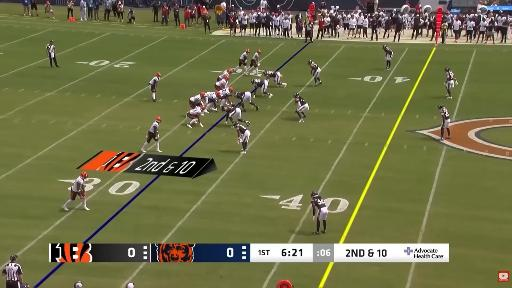Helmet: (80, 172, 87, 179), (311, 191, 318, 197), (220, 104, 226, 111), (200, 91, 205, 98), (232, 122, 239, 127), (293, 93, 300, 98), (438, 104, 444, 109), (263, 70, 268, 75), (156, 117, 161, 122), (215, 91, 220, 96), (227, 69, 232, 74), (200, 105, 205, 110), (224, 75, 229, 80), (445, 67, 450, 72), (229, 87, 233, 92), (156, 72, 160, 77), (251, 79, 255, 84), (308, 60, 312, 64), (257, 49, 261, 53), (235, 92, 238, 97), (383, 45, 386, 49), (246, 49, 249, 53)
Jersey: (311, 196, 326, 210), (72, 177, 83, 192), (149, 121, 159, 134), (440, 108, 450, 121), (188, 107, 202, 116), (190, 94, 202, 104), (206, 92, 217, 102), (216, 79, 227, 89), (296, 96, 307, 106), (229, 108, 241, 117), (220, 88, 230, 98), (446, 70, 455, 81), (237, 125, 246, 135), (149, 77, 159, 86), (218, 71, 229, 79), (254, 79, 264, 87), (310, 62, 318, 71), (240, 52, 249, 60), (267, 71, 277, 78), (235, 92, 245, 99), (252, 52, 259, 62), (384, 47, 392, 55)
Player: (63, 172, 89, 210), (311, 191, 328, 234), (141, 117, 161, 152), (233, 123, 250, 153), (225, 107, 250, 126), (235, 92, 258, 111), (294, 93, 309, 122), (438, 104, 450, 140), (251, 79, 272, 98), (187, 106, 205, 127), (445, 67, 457, 98), (264, 71, 287, 87), (308, 60, 322, 86), (149, 72, 160, 102), (236, 49, 249, 74), (218, 87, 233, 108), (205, 91, 219, 113), (188, 92, 206, 109), (250, 49, 261, 75), (383, 45, 393, 70), (215, 75, 229, 90), (217, 69, 232, 81)
